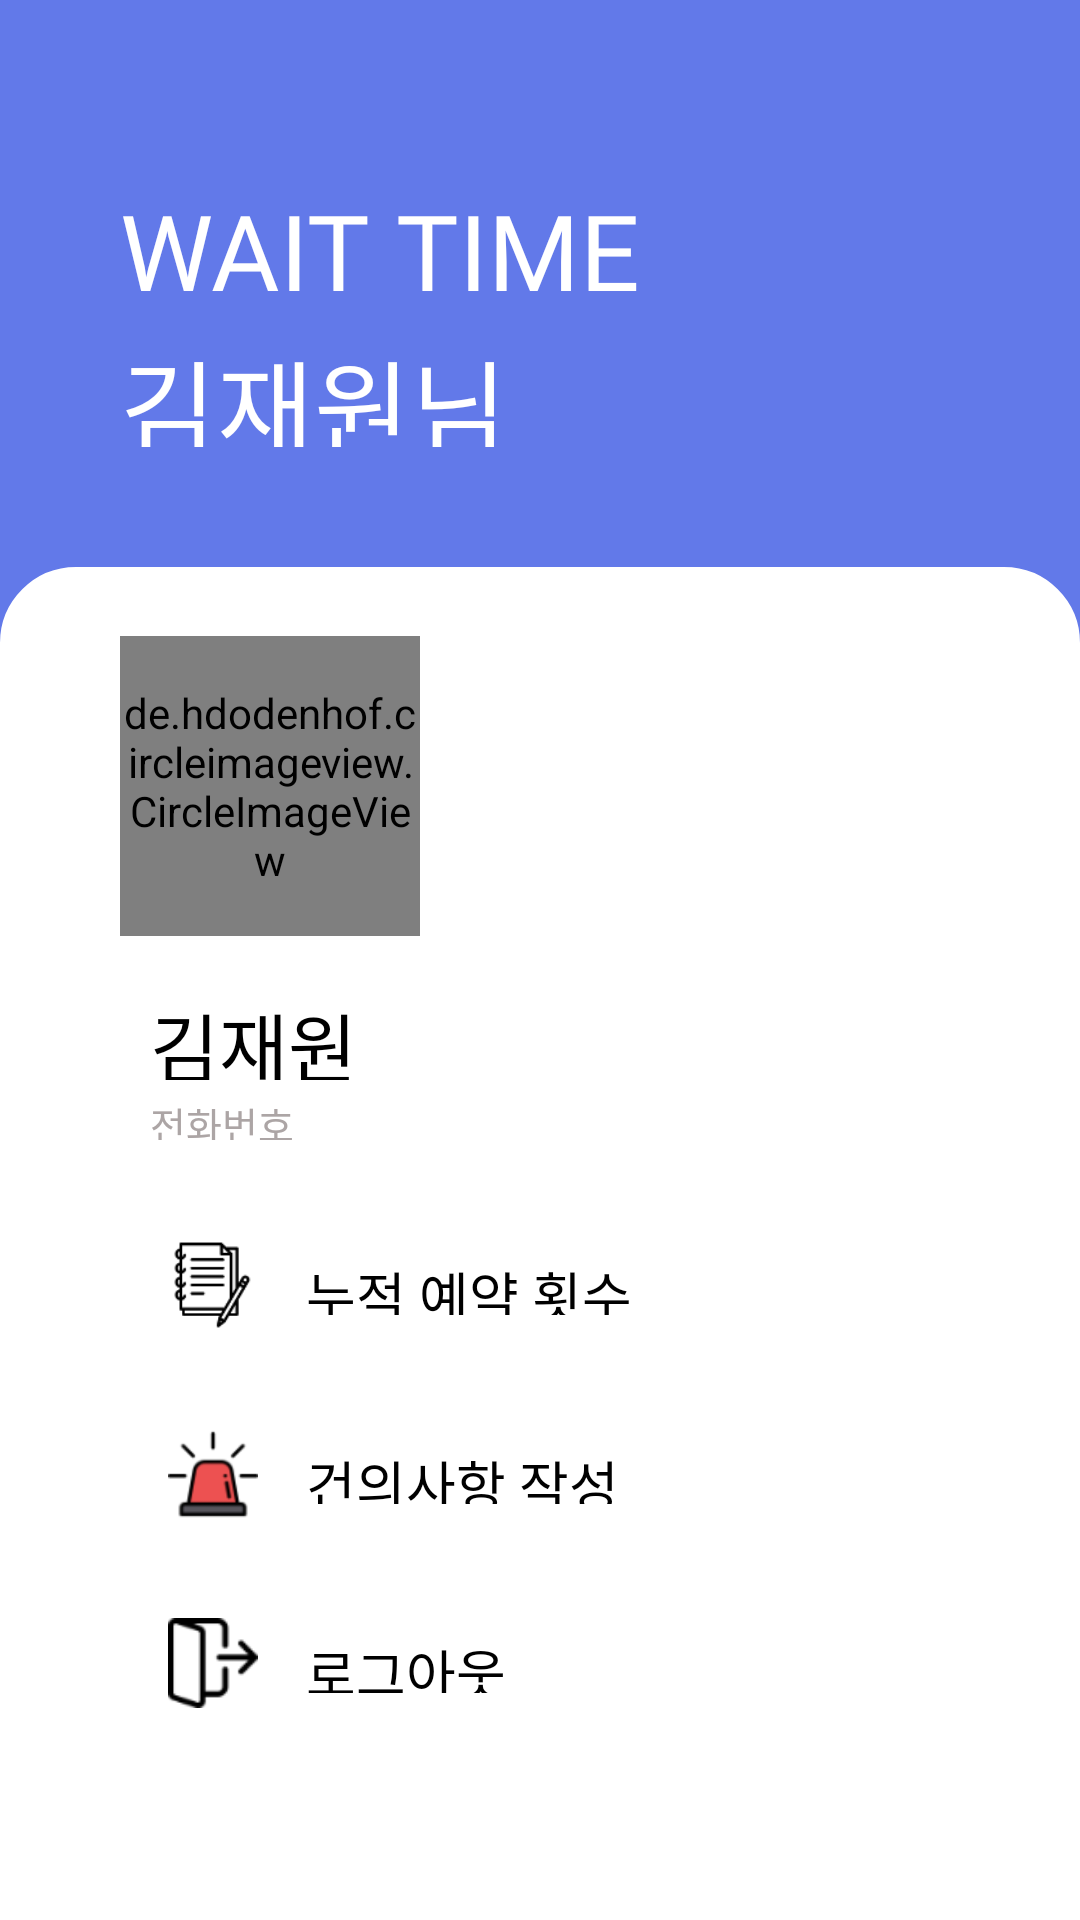

Icons on this 1080x1920 Android screen, each with its box as Rect(x1, y1, x2, y2):
exit: Rect(168, 1618, 258, 1708)
notice: Rect(168, 1431, 258, 1517)
write: Rect(174, 1242, 251, 1328)
